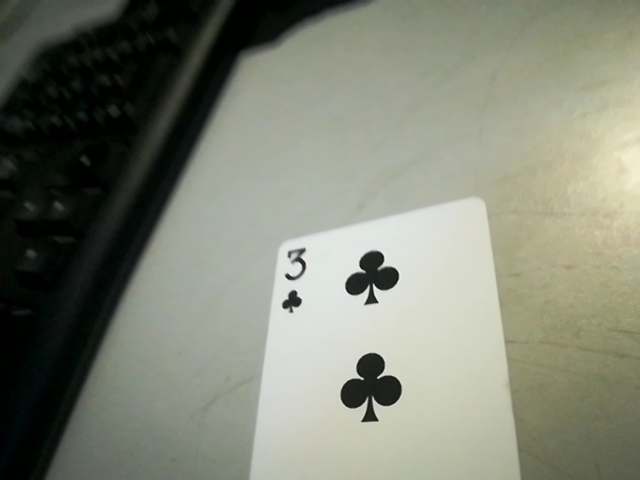mh 3: (269, 239, 316, 315)
